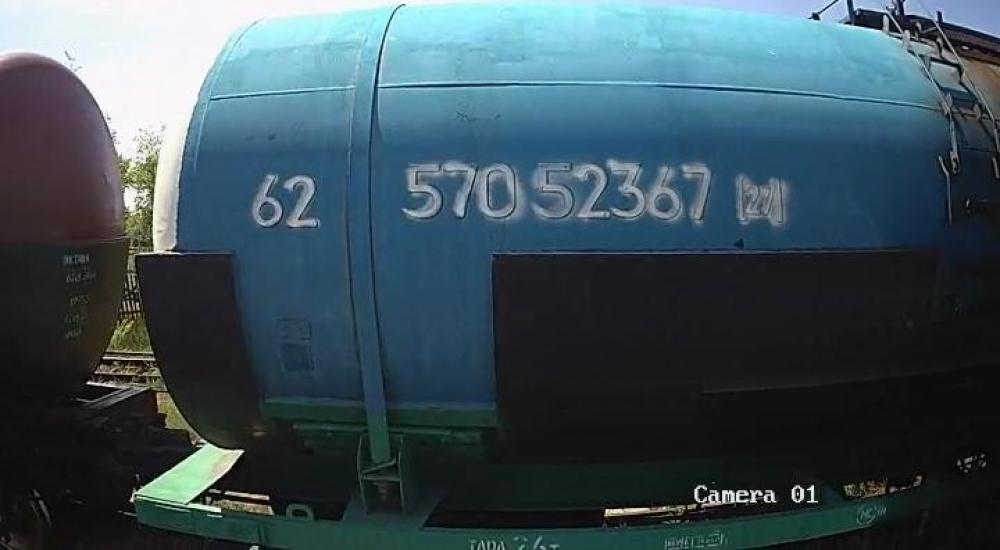Wagon-number: (403, 158, 714, 228)
